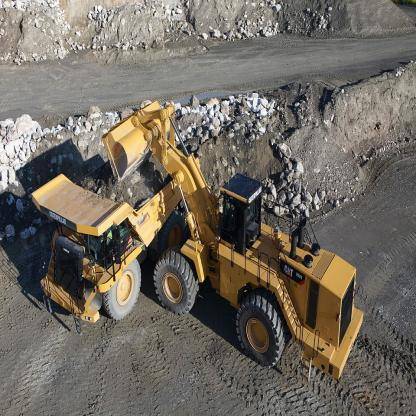bull_dozer/loader/grader: (102, 97, 366, 387)
dump_truck: (28, 146, 207, 328)
